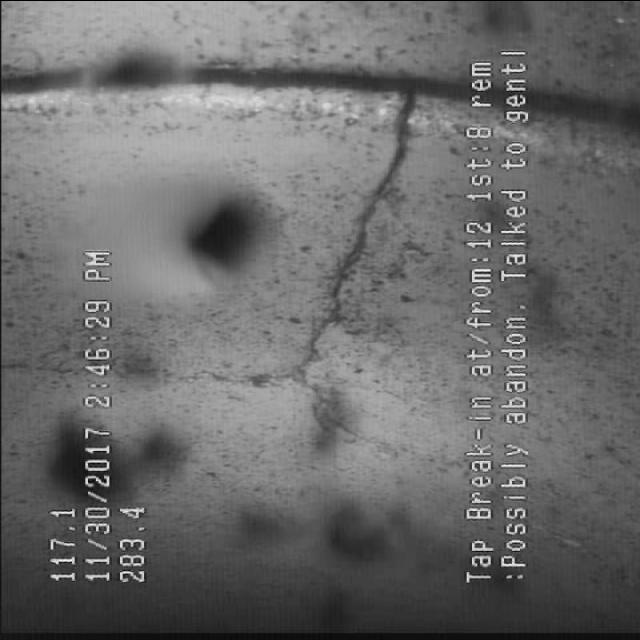Crack: (265, 129, 429, 371)
